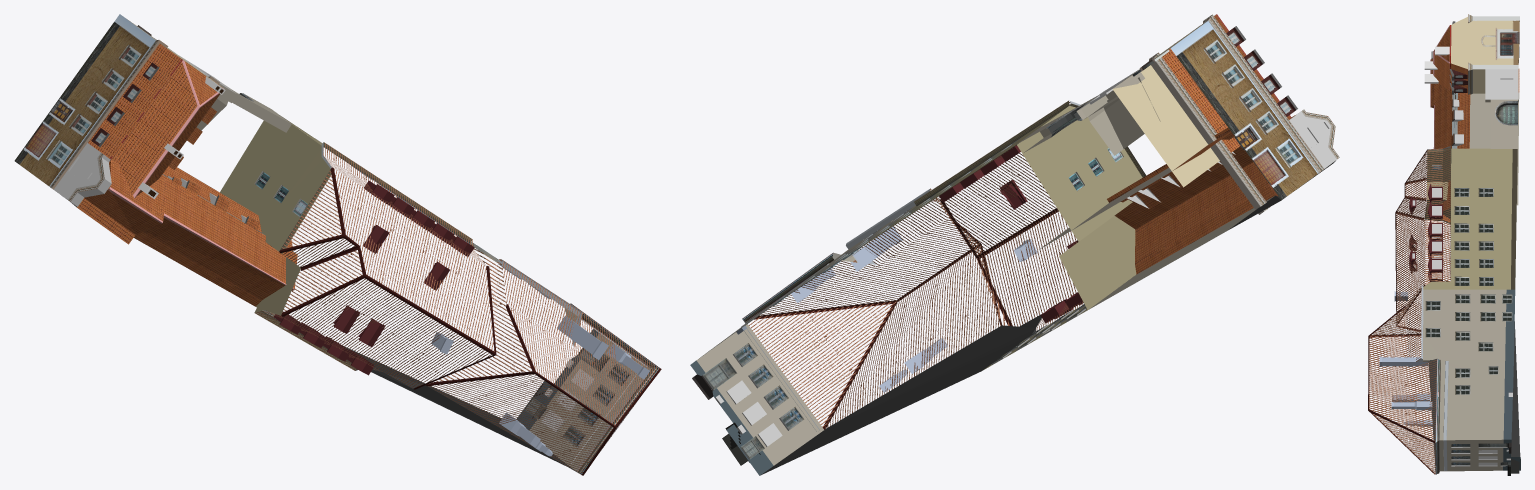
Rendered from Lai-31.obj.
3 views of the same model, side by side, from view 1: azimuth 30°, elevation 25°; view 2: azimuth 150°, elevation 25°; view 3: azimuth 270°, elevation 25° (orthographic). The views are drawn at different scales.
Visible parts, largest first — view 1: Lai_31; view 2: Lai_31; view 3: Lai_31.
Boxes of the visible parts, <box> form: Lai_31: <box>14,14,661,475</box>; Lai_31: <box>690,14,1339,475</box>; Lai_31: <box>1368,14,1520,475</box>.
Bounding box in the file's own units: 59.54 × 50.11 × 20.73.
